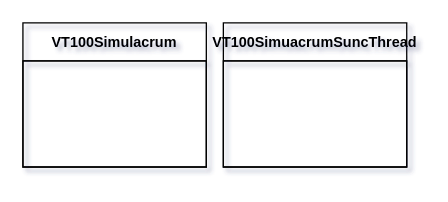
The diagram is 448 pixels wide and 202 high, and some of its shapes have lost their labels. The shapes that lost their labels are listed below. From the top down, each one's centre as x and y in pixels, then its label:
At (114,113): "asf".
At (314,113): "sf".
